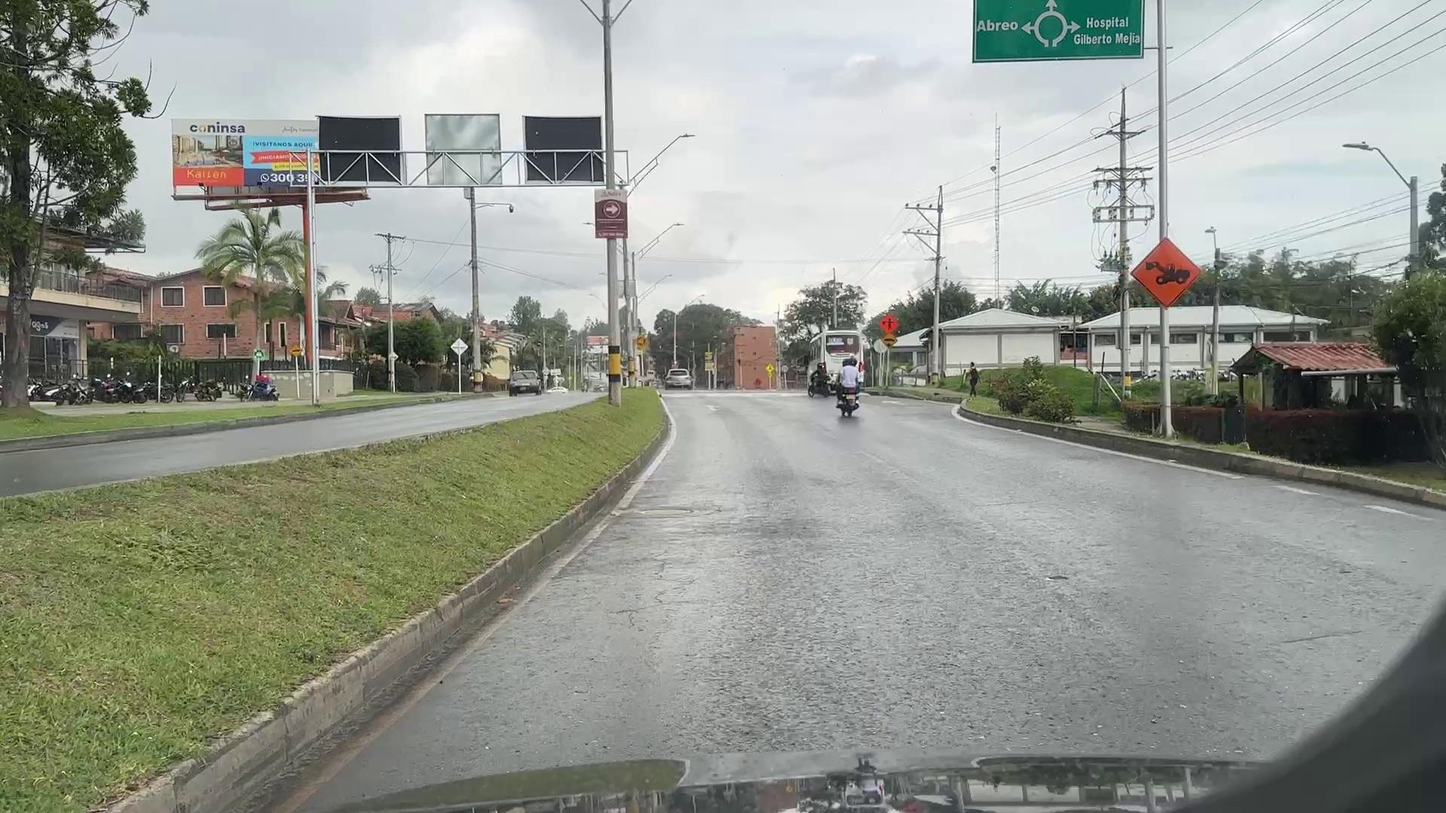registro: (639, 508, 692, 515)
